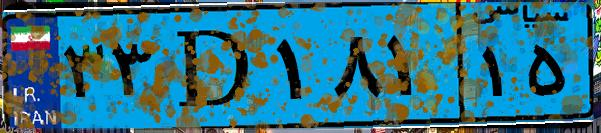1: (270, 28, 330, 110), (385, 28, 445, 110), (475, 38, 525, 113)
3: (57, 26, 110, 100), (110, 28, 158, 98)
5: (525, 38, 570, 115)
8: (330, 28, 385, 110)
D: (158, 12, 270, 120)
